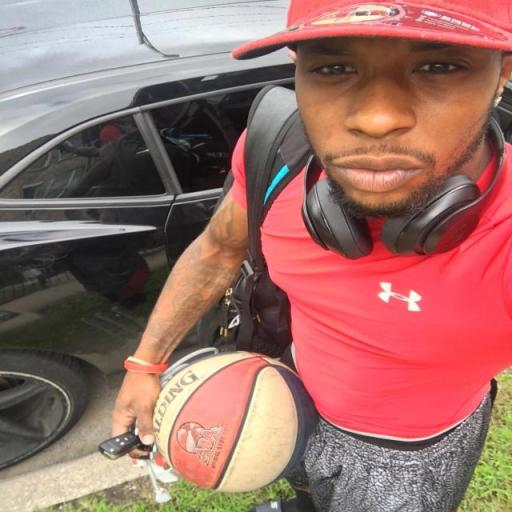Under Armour: (376, 280, 424, 312)
